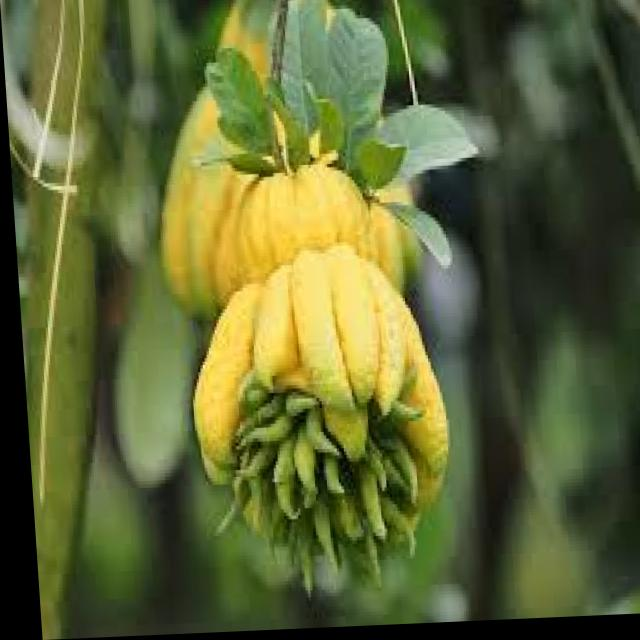PhatThu: (176, 252, 452, 590)
